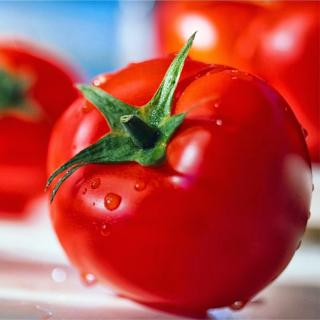Tomat: (42, 48, 320, 320)
